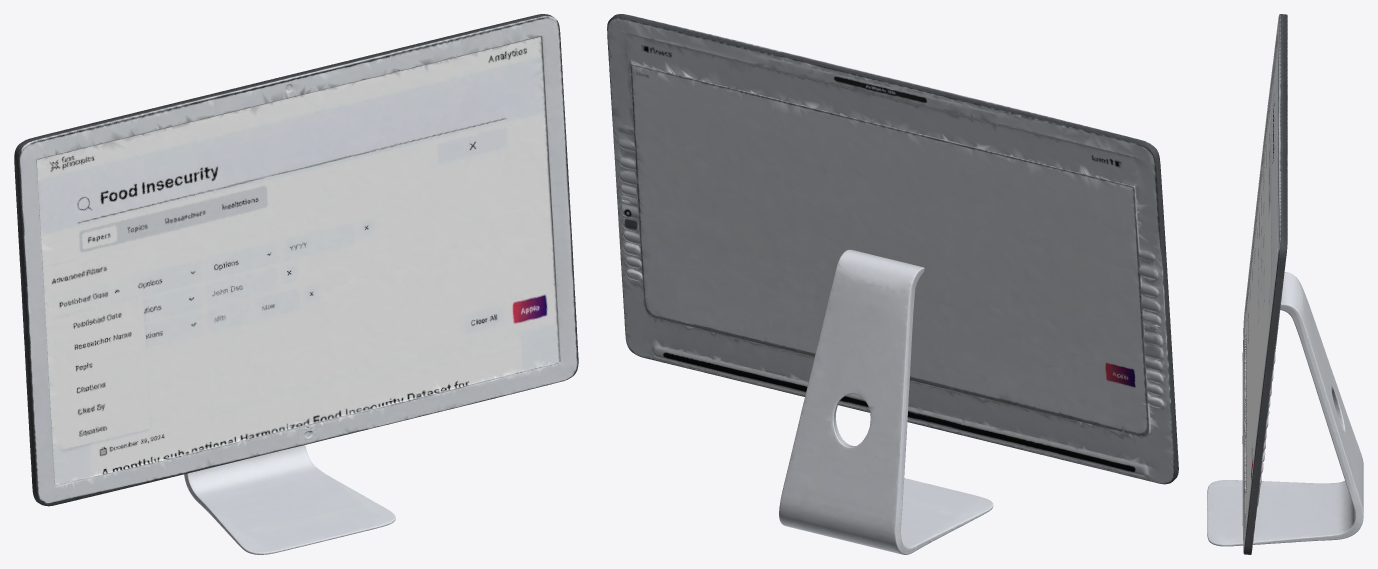
The model's file is sleek-desk-saence.glb.
3 views of the same model, side by side, from view 1: azimuth 30°, elevation 25°; view 2: azimuth 150°, elevation 25°; view 3: azimuth 270°, elevation 25° (orthographic). The views are drawn at different scales.
Bounding box in the file's own units: 1.9 × 1.45 × 0.5309.
Materials: 1 (1 with a texture image).
